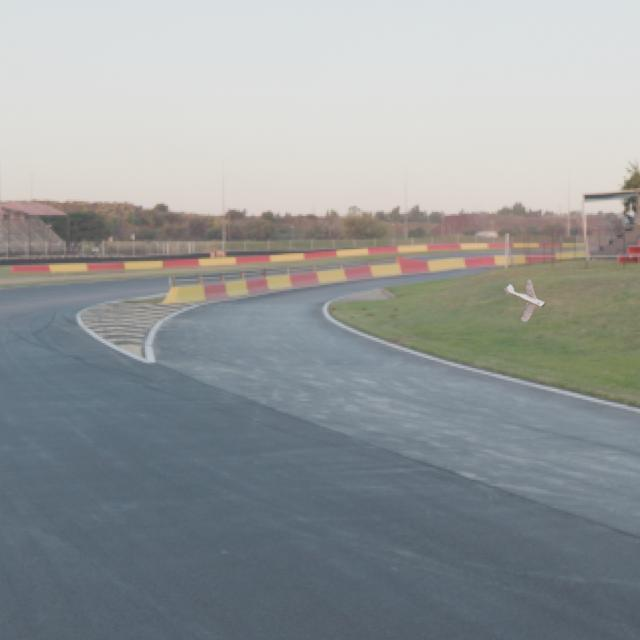Airaplan: (505, 279, 546, 321)
